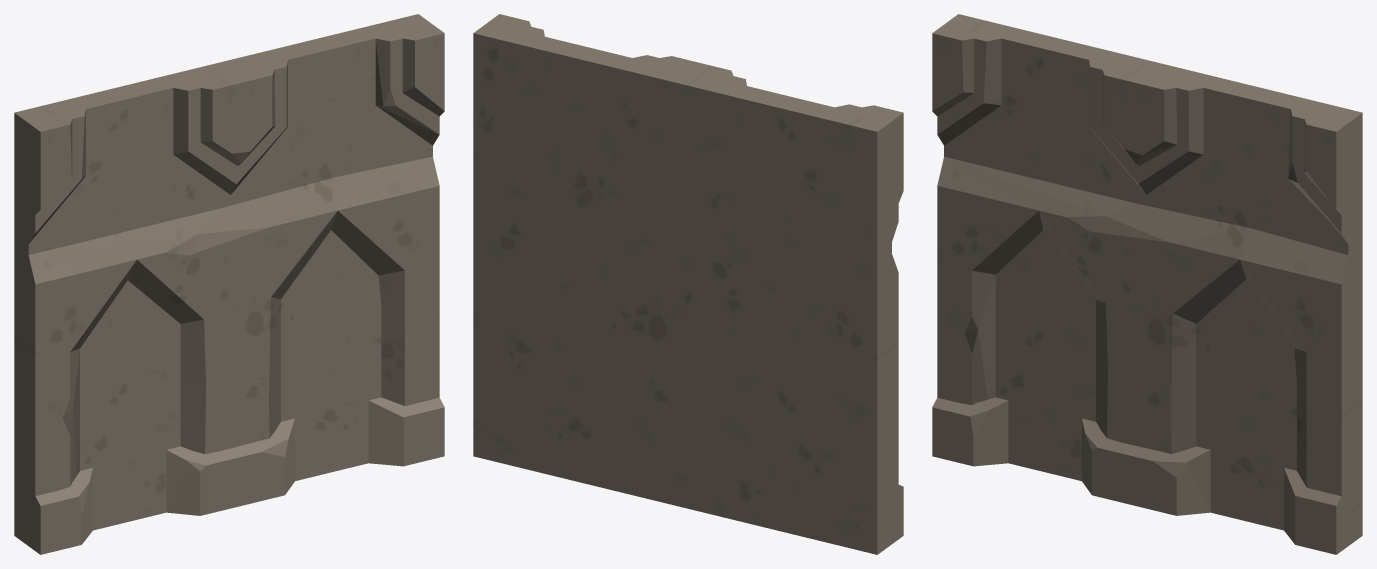
Rendered from forge_wall_d.gltf.
3 renders of one model, left to right at view 1: azimuth 30°, elevation 25°; view 2: azimuth 150°, elevation 25°; view 3: azimuth 330°, elevation 25°, orthographic.
Visible parts, largest first — view 1: forge_wall_d; view 2: forge_wall_d; view 3: forge_wall_d.
Boxes of the visible parts, x1=… form: forge_wall_d: x1=14, y1=14, x2=444, y2=554; forge_wall_d: x1=473, y1=14, x2=903, y2=554; forge_wall_d: x1=932, y1=14, x2=1362, y2=554.
Bounding box in the file's own units: 5 × 5 × 0.564.
Materials: 1 (1 with a texture image).
